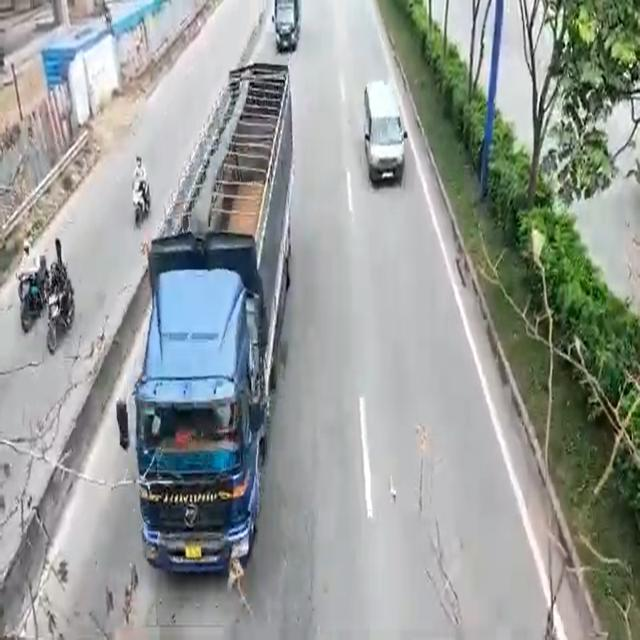bus: (358, 80, 411, 190)
motor: (38, 289, 73, 349), (12, 271, 48, 326), (130, 179, 150, 228)
truck: (157, 78, 287, 585), (276, 0, 298, 50)
